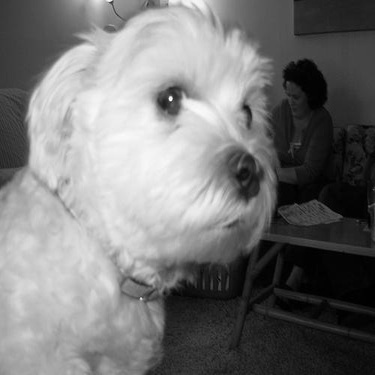dog: (3, 6, 285, 372)
